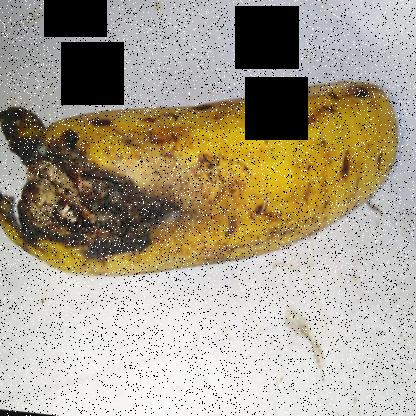rotten: (1, 71, 180, 313)
